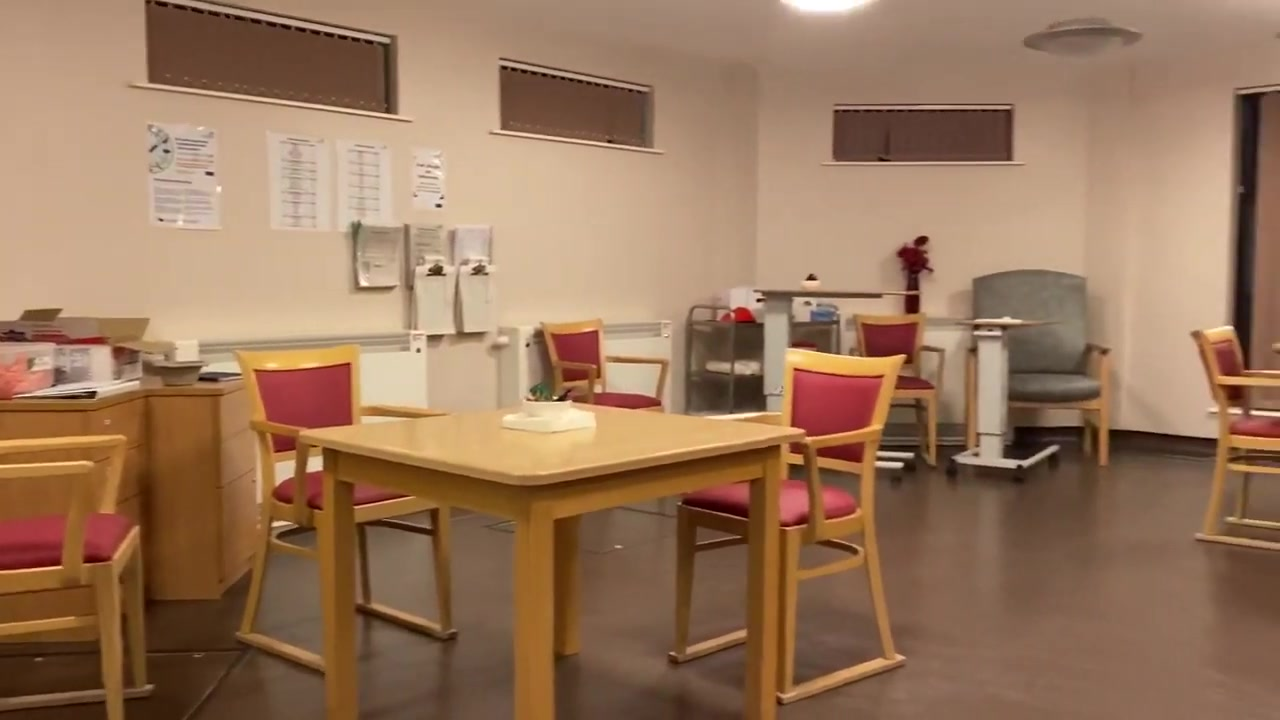chair: (666, 344, 907, 705), (231, 341, 461, 672), (1, 434, 156, 720), (963, 267, 1114, 468), (1188, 324, 1280, 555), (847, 311, 948, 468), (539, 318, 673, 414)
counter: (1, 364, 256, 643)
table: (299, 401, 807, 720), (752, 280, 911, 469), (947, 314, 1064, 483)
utility_cart: (686, 302, 840, 418)
